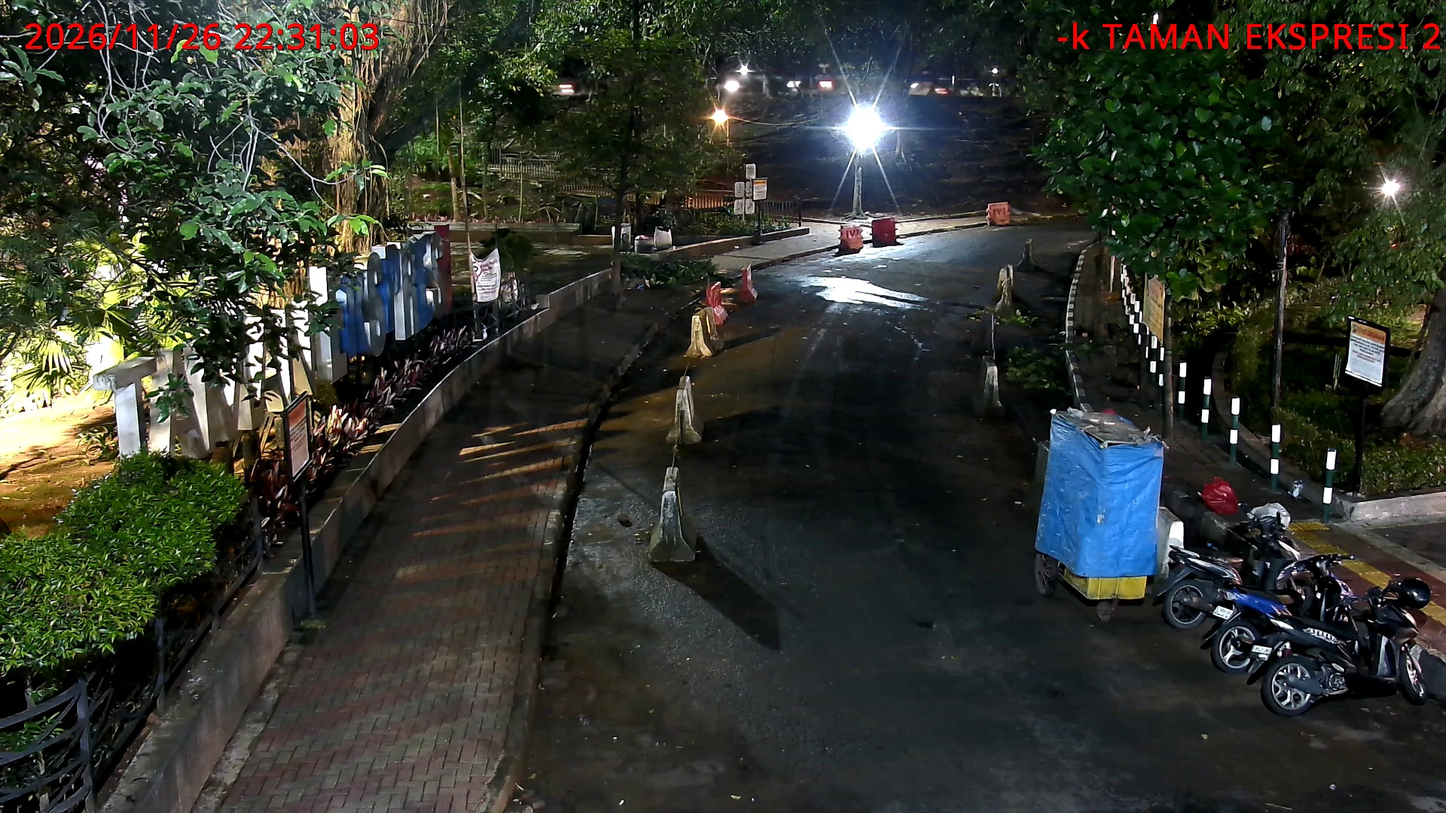Gerobak: (1034, 406, 1171, 617)
